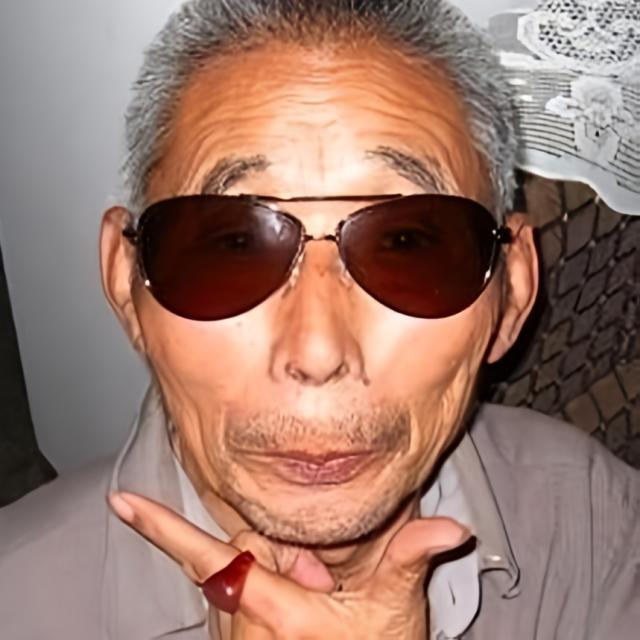Fear: (132, 36, 498, 547)
